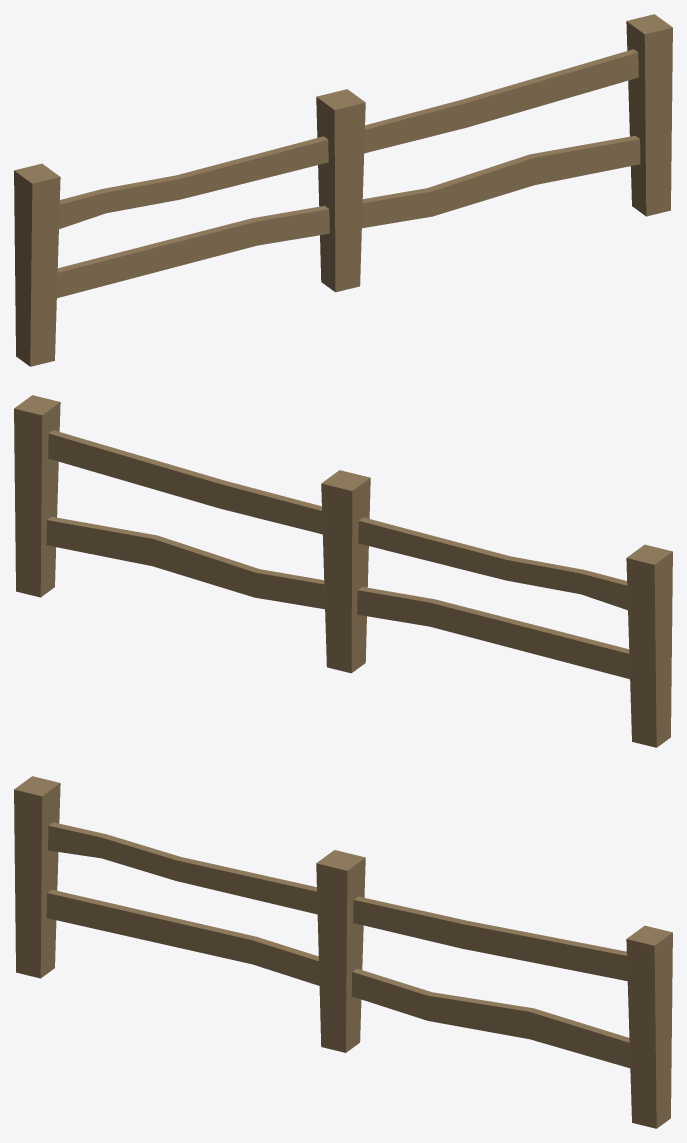
File: model_polytope_fence_gate_straight.fbx
The picture shows the model from 3 angles, top to bottom: view 1: azimuth 30°, elevation 25°; view 2: azimuth 150°, elevation 25°; view 3: azimuth 330°, elevation 25°; orthographic projection.
Parts seen in each view (by area): view 1: model_polytope_fence_gate_straight; view 2: model_polytope_fence_gate_straight; view 3: model_polytope_fence_gate_straight.
Boxes of the visible parts, x1,y1,x2,y2 form: model_polytope_fence_gate_straight: (14,14,672,366); model_polytope_fence_gate_straight: (14,395,672,747); model_polytope_fence_gate_straight: (14,776,672,1128).
Bounding box in the file's own units: 349 × 96.16 × 17.34.
Materials: 1 (1 with a texture image).
